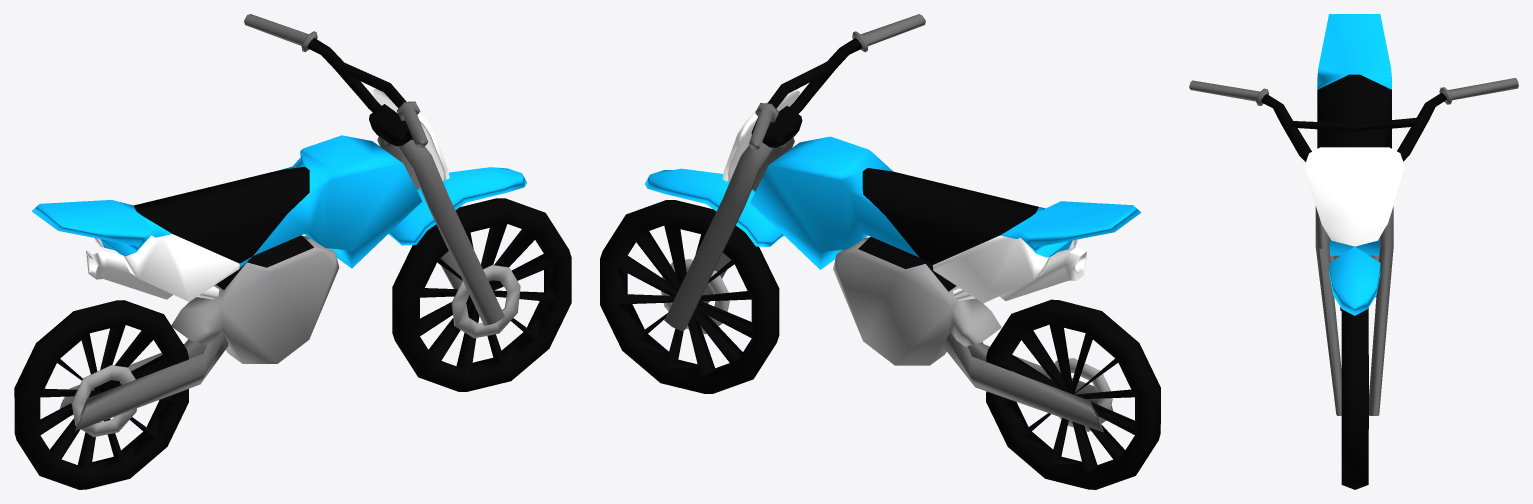
The model's file is DirtBike250ccLightBlue.glb.
The picture shows the model from 3 angles, left to right: view 1: azimuth 30°, elevation 25°; view 2: azimuth 150°, elevation 25°; view 3: azimuth 270°, elevation 25°; orthographic projection. The views are drawn at different scales.
Parts seen in each view (by area): view 1: DirtBike250ccLightBlue; view 2: DirtBike250ccLightBlue; view 3: DirtBike250ccLightBlue.
Part boxes in pixels (x1,y1,x2,y2): DirtBike250ccLightBlue: [14, 14, 571, 489]; DirtBike250ccLightBlue: [600, 14, 1160, 489]; DirtBike250ccLightBlue: [1189, 14, 1518, 489].
Bounding box in the file's own units: 2.46 × 1.49 × 1.33.
1 material, 1 textured.
